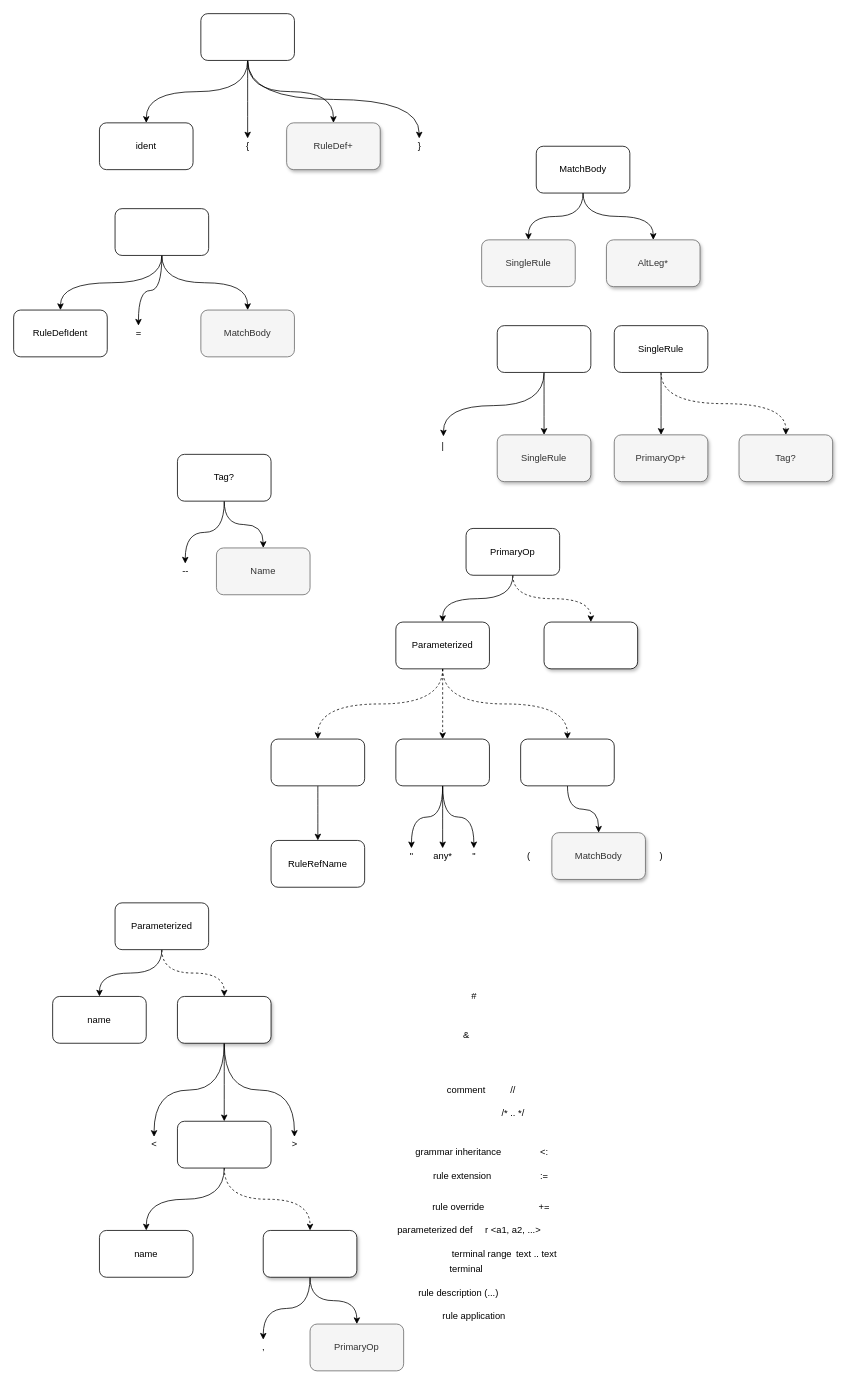
Image size: 851x1385. Some labels were removed from this diagram. The shapes that lost their labels are listed below. From the top down, each one's centre as x and y in pixels, then its label:
At pixel 247 36: "OhmSpecification".
At pixel 161 231: "RuleDef".
At pixel 543 348: "AltLeg".
At pixel 591 646: "op?".
At pixel 317 762: "RuleRef".
At pixel 442 762: "String".
At pixel 567 762: "Nested".
At pixel 225 1021: "Parameter?".
At pixel 224 1144: "NameList".
At pixel 310 1255: "CommaName*".
